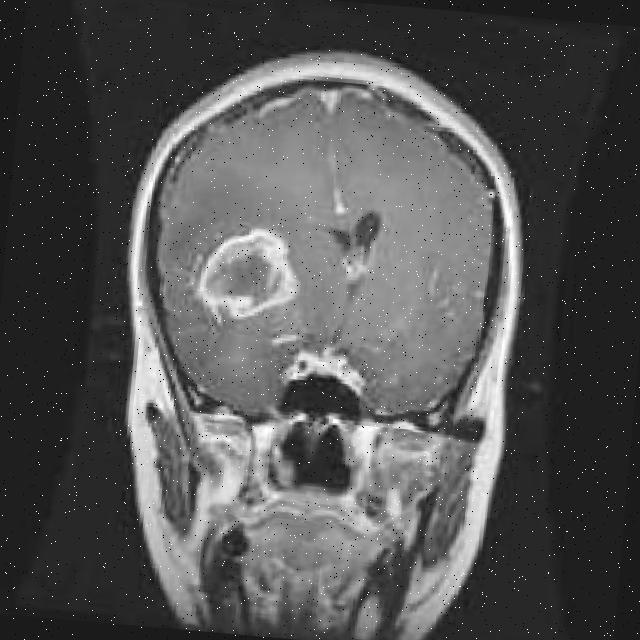MCI: (162, 210, 317, 333)
